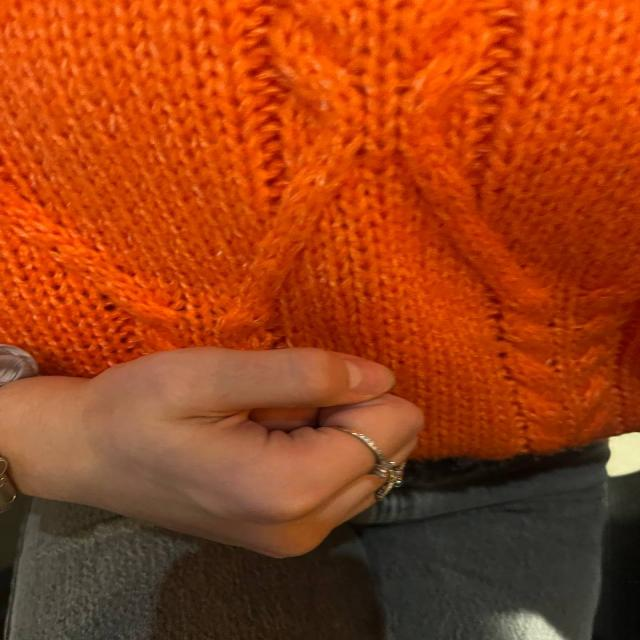a: (82, 342, 424, 580)
